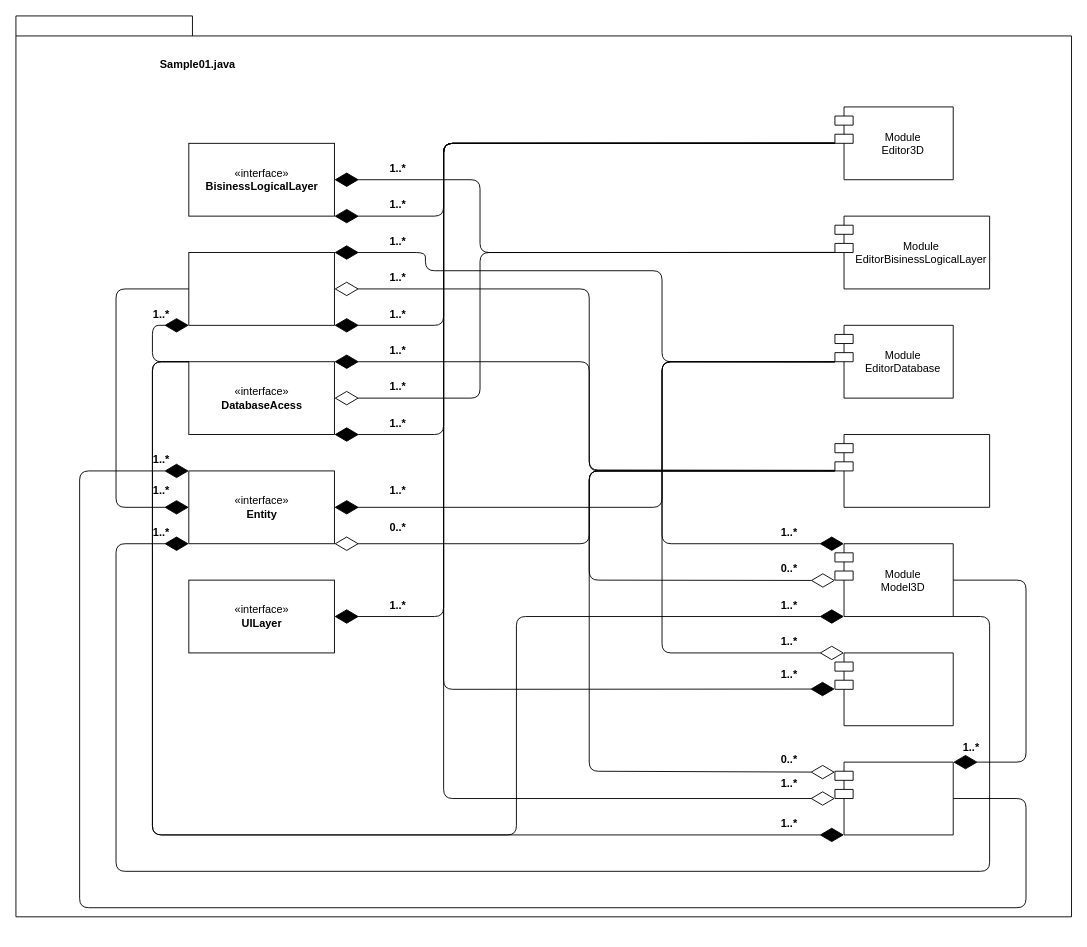
Some shapes in this 1087 by 947 pixel diagram are drawn without their labels. Here are the shapes that lost their labels. From the top down, the centre of each, then its label:
[261,288]: «interface» Database
[912,470]: Module EditorDatabaseAccess
[893,689]: Module ProjectFile
[893,798]: Module Texture
